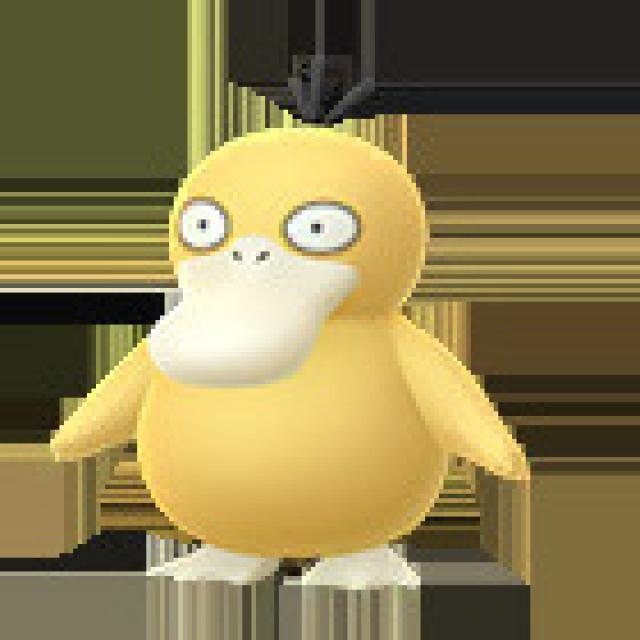Psyduck: (122, 132, 458, 592)
